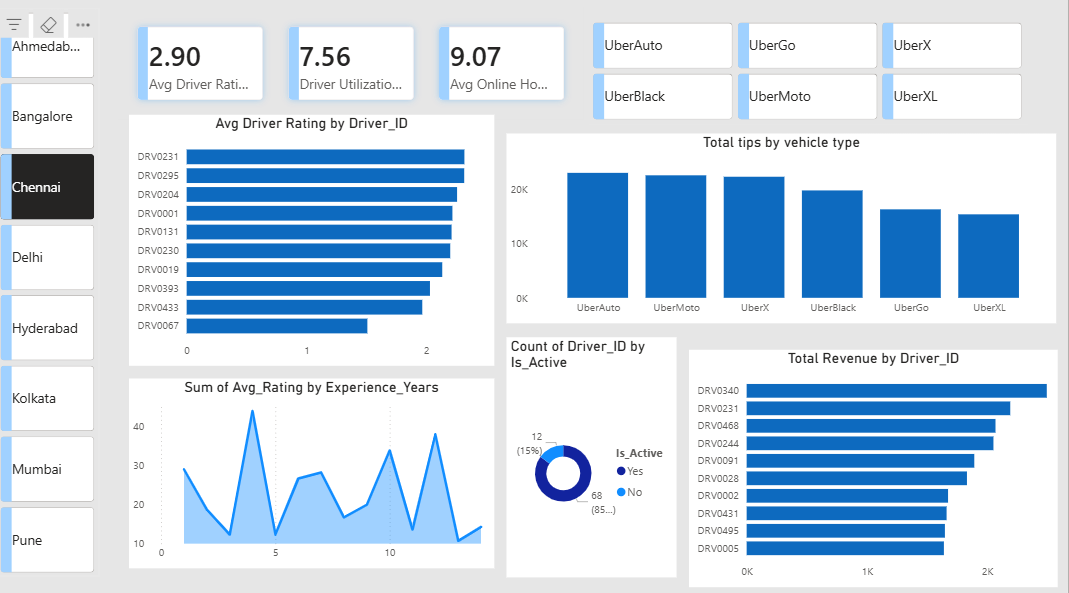

What the dashboard file says about the page in this screenshot:
{"tool":"powerbi","page":{"name":"Driver Performance","canvas":[1280,720],"ordinal":2},"visuals":[{"type":"cardVisual","fields":{"Data":["measure.Avg Driver Rating","measure.Driver Utilization Rate","measure.Avg Online Hours"]},"box":[158.8,16.2,558.6,147],"z":0},{"type":"barChart","fields":{"Category":["Trips_Data.Driver_ID"],"Y":["measure.Total Revenue"]},"box":[834.9,427.7,433.6,279.3],"z":1000},{"type":"barChart","fields":{"Category":["Trips_Data.Driver_ID"],"Y":["measure.Avg Driver Rating"]},"box":[176.4,151.4,429.2,295.5],"z":2000},{"type":"stackedAreaChart","fields":{"Category":["Drivers_Data.Experience_Years"],"Y":["Sum(Drivers_Data.Avg_Rating)"]},"box":[176.4,461.6,429.2,223.4],"z":3000},{"type":"columnChart","title":"Total tips by vehicle type ","fields":{"Category":["Drivers_Data.Vehicle_Type"],"Y":["Sum(Drivers_Data.Total_Trips)"]},"box":[620.3,173.5,646.8,223.4],"z":4000},{"type":"donutChart","fields":{"Category":["Drivers_Data.Is_Active"],"Y":["CountNonNull(Drivers_Data.Driver_ID)"]},"box":[620.3,413,199.9,282.2],"z":5000},{"type":"advancedSlicerVisual","fields":{"Values":["Drivers_Data.City"]},"box":[20.6,26.5,120.5,668.8],"z":6000},{"type":"advancedSlicerVisual","fields":{"Values":["Drivers_Data.Vehicle_Type"]},"box":[717.3,38.2,515.9,124.9],"z":7000}]}

Visuals, with their boxes on the page's 1280x720 design canvas (x1, y1, x2, y2). These are canvas units, not pixel positions in the 1069x593 screenshot, which may show the page scaled, cropped or inside an application window:
cardVisual - measure.Avg Driver Rating x measure.Driver Utilization Rate: bbox(159, 16, 717, 163)
barChart - Trips_Data.Driver_ID x measure.Total Revenue: bbox(835, 428, 1268, 707)
barChart - Trips_Data.Driver_ID x measure.Avg Driver Rating: bbox(176, 151, 606, 447)
stackedAreaChart - Drivers_Data.Experience_Years x Sum(Drivers_Data.Avg_Rating): bbox(176, 462, 606, 685)
"Total tips by vehicle type " columnChart: bbox(620, 174, 1267, 397)
donutChart - Drivers_Data.Is_Active x CountNonNull(Drivers_Data.Driver_ID): bbox(620, 413, 820, 695)
advancedSlicerVisual - Drivers_Data.City: bbox(21, 26, 141, 695)
advancedSlicerVisual - Drivers_Data.Vehicle_Type: bbox(717, 38, 1233, 163)
